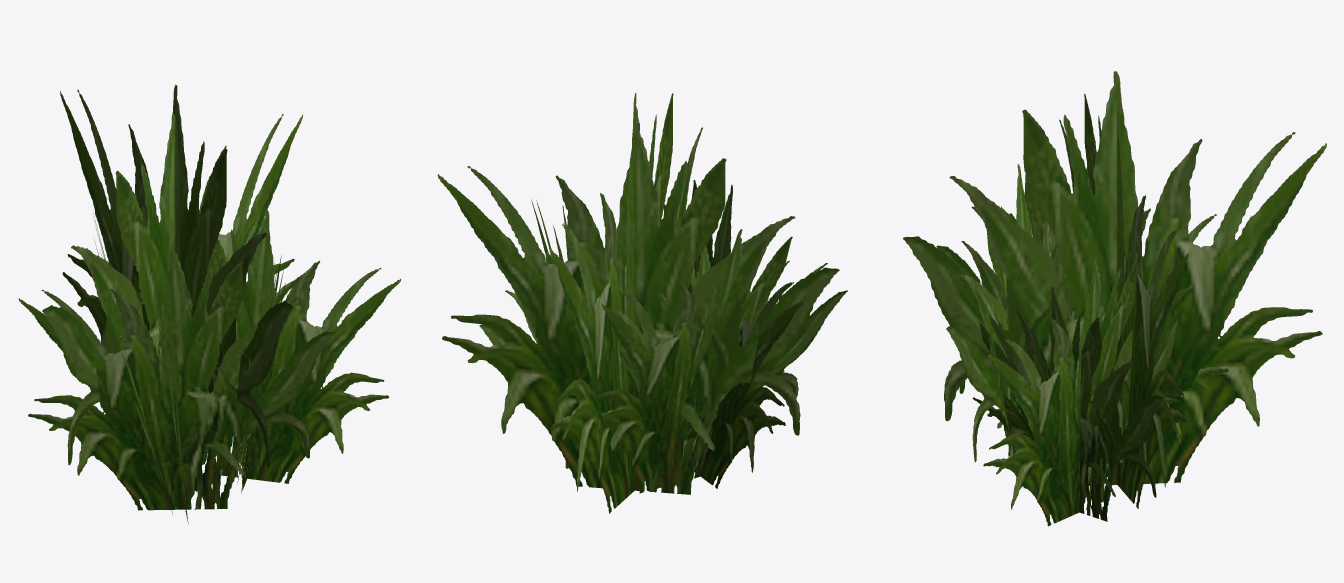
Rendered from utility_grasses_xcz01.FBX.
3 views of the same model, side by side, from view 1: azimuth 30°, elevation 25°; view 2: azimuth 150°, elevation 25°; view 3: azimuth 270°, elevation 25° (orthographic). The views are drawn at different scales.
Parts seen in each view (by area): view 1: utility_grasses_xcz01; view 2: utility_grasses_xcz01; view 3: utility_grasses_xcz01.
Part boxes in pixels (x1,y1,x2,y2): utility_grasses_xcz01: (18, 84, 401, 524); utility_grasses_xcz01: (437, 93, 847, 513); utility_grasses_xcz01: (903, 71, 1326, 526).
Bounding box in the file's own units: 186 × 207 × 194.
